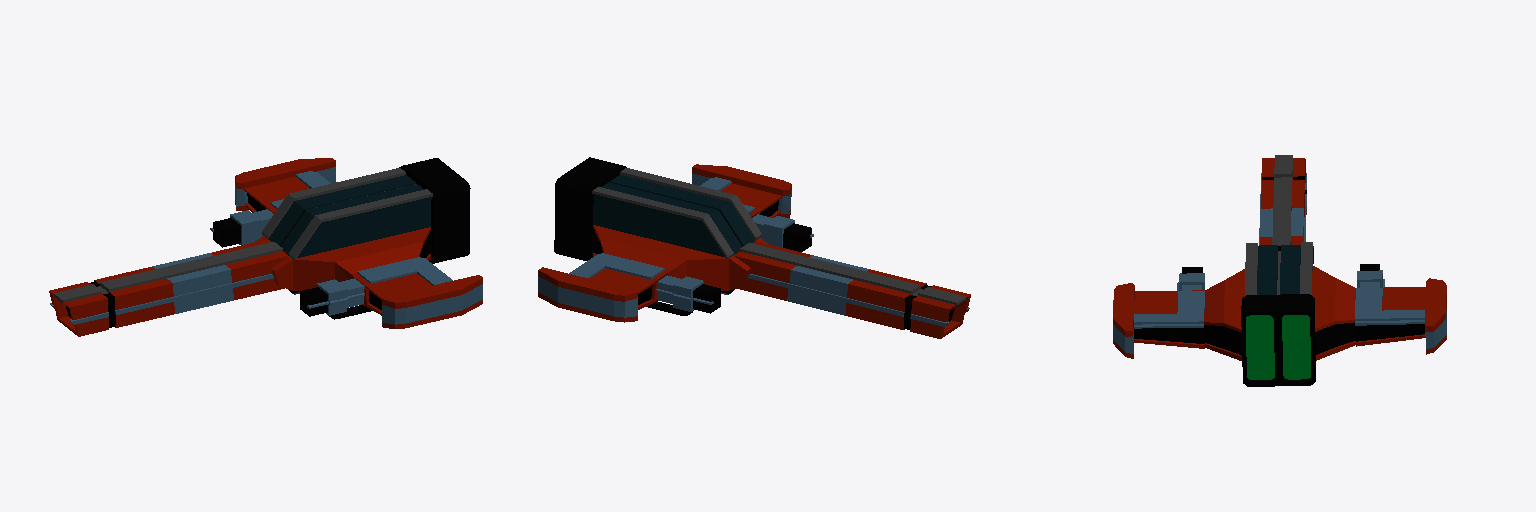
File: enemy_ship.obj
3 renders of one model, left to right at view 1: azimuth 30°, elevation 25°; view 2: azimuth 150°, elevation 25°; view 3: azimuth 270°, elevation 25°, orthographic.
Parts seen in each view (by area): view 1: Object_4, Object_8, Object_5, Object_7, Object_6; view 2: Object_4, Object_8, Object_5, Object_7, Object_6; view 3: Object_4, Object_7, Object_8, Object_9, Object_6, Object_5.
Boxes of the visible parts, x1=… form: Object_4: x1=49, y1=158, x2=482, y2=336; Object_8: x1=50, y1=167, x2=482, y2=324; Object_5: x1=268, y1=175, x2=431, y2=257; Object_7: x1=66, y1=158, x2=470, y2=327; Object_6: x1=54, y1=168, x2=432, y2=302; Object_4: x1=538, y1=164, x2=970, y2=338; Object_8: x1=538, y1=173, x2=969, y2=326; Object_5: x1=593, y1=175, x2=754, y2=257; Object_7: x1=554, y1=157, x2=954, y2=329; Object_6: x1=592, y1=168, x2=965, y2=304; Object_4: x1=1113, y1=158, x2=1446, y2=360; Object_7: x1=1134, y1=176, x2=1424, y2=386; Object_8: x1=1113, y1=173, x2=1446, y2=353; Object_9: x1=1246, y1=315, x2=1310, y2=379; Object_6: x1=1245, y1=155, x2=1313, y2=295; Object_5: x1=1257, y1=245, x2=1313, y2=294.
Size of the model in its own units: 6.39 by 1.25 by 4.73.